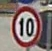limite 10: (10, 5, 41, 47)
